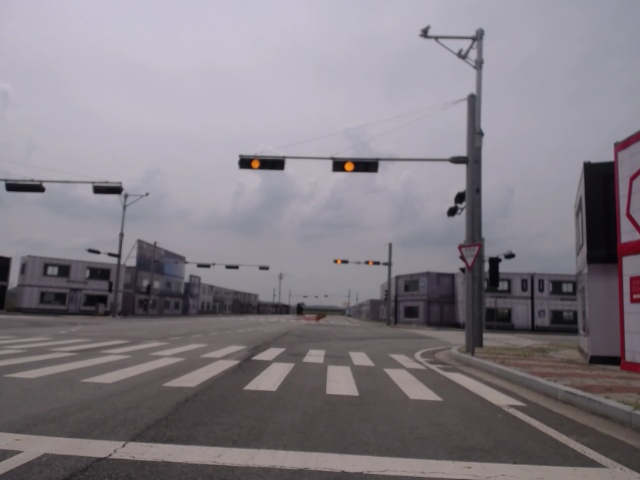orange_4: (331, 156, 382, 176), (235, 154, 287, 173), (363, 259, 383, 268), (331, 258, 353, 265)
